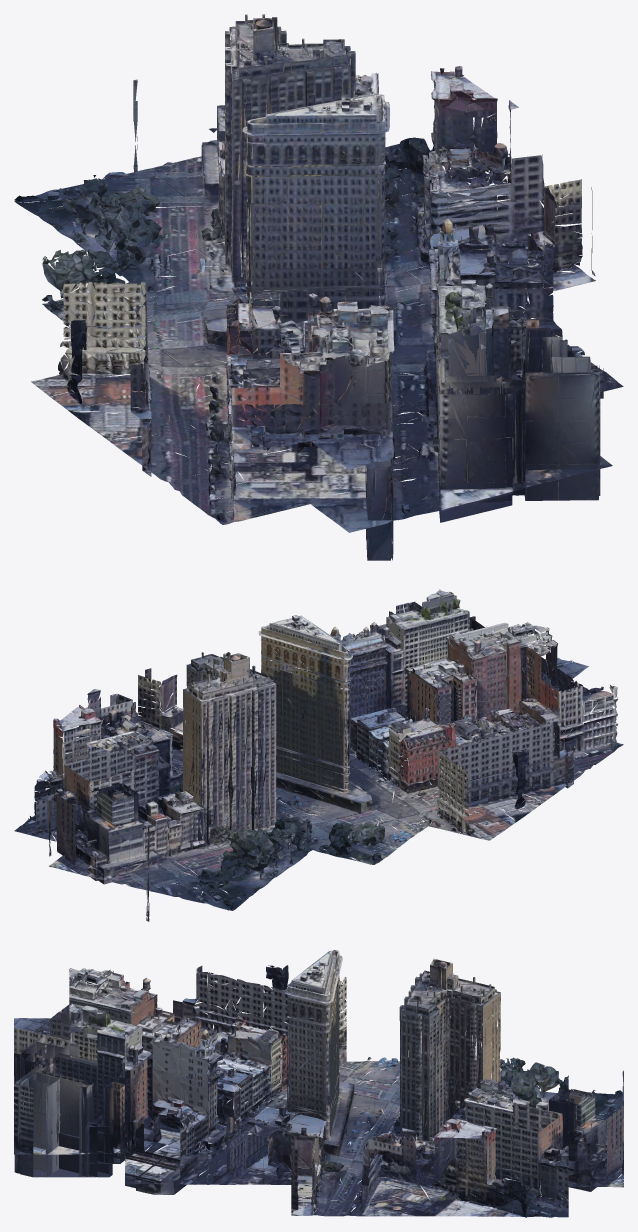
Rendered from city.glb.
3 views of the same model, one above another, from view 1: azimuth 30°, elevation 25°; view 2: azimuth 150°, elevation 25°; view 3: azimuth 270°, elevation 25° (orthographic). The views are drawn at different scales.
Parts seen in each view (by area): view 1: City; view 2: City; view 3: City.
Boxes of the visible parts, box(x1,y1,x2,y2) form: City: box(14, 14, 623, 560); City: box(14, 589, 623, 921); City: box(14, 950, 623, 1217).
Bounding box in the file's own units: 228 × 119 × 317.
Materials: 1 (1 with a texture image).
